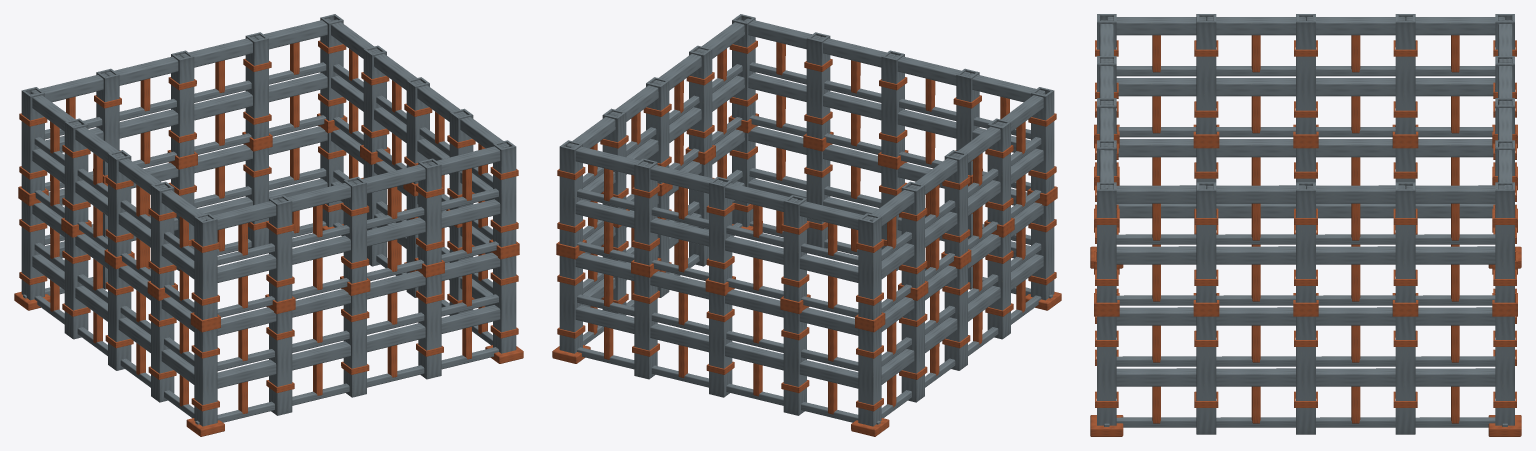
The picture shows the model from 3 angles, left to right: view 1: azimuth 30°, elevation 25°; view 2: azimuth 150°, elevation 25°; view 3: azimuth 270°, elevation 25°; orthographic projection. The views are drawn at different scales.
Visible parts, largest first — view 1: Tier 1 side 0 post 0, Tier 0 side 0 post 0, Tier 1 side 0 post 1, Tier 1 side 1 post 0, Tier 1 side 2 post 2, Tier 1 side 0 post 3, Tier 0 side 0 post 1, Tier 0 side 0 post 3, Tier 1 side 0 post 2, Tier 1 side 2 post 1, Tier 0 side 0 post 2, Tier 0 side 1 post 0 (+92 smaller); view 2: Tier 1 side 3 post 0, Tier 0 side 3 post 0, Tier 1 side 0 post 3, Tier 1 side 2 post 3, Tier 1 side 2 post 0, Tier 1 side 0 post 2, Tier 1 side 2 post 1, Tier 0 side 2 post 3, Tier 0 side 2 post 1, Tier 1 side 2 post 2, Tier 0 side 2 post 2, Tier 0 side 2 post 0 (+92 smaller); view 3: Tier 1 side 3 post 1, Tier 1 side 3 post 3, Tier 1 side 1 post 1, Tier 1 side 1 post 3, Tier 0 side 1 post 1, Tier 0 side 1 post 3, Tier 1 side 3 post 2, Tier 0 side 1 post 2, Tier 1 side 1 post 2, Tier 1 side 2 post 0, Tier 1 side 1 post 0, Tier 0 side 1 post 0 (+78 smaller).
Boxes of the visible parts, x1,y1,x2,y2 form: Tier 1 side 0 post 0: (194,213,217,319); Tier 0 side 0 post 0: (194,327,217,426); Tier 1 side 0 post 1: (269,195,292,301); Tier 1 side 1 post 0: (493,140,516,247); Tier 1 side 2 post 2: (171,50,194,157); Tier 1 side 0 post 3: (418,158,441,265); Tier 0 side 0 post 1: (269,310,292,415); Tier 0 side 0 post 3: (418,274,441,379); Tier 1 side 0 post 2: (343,176,366,283); Tier 1 side 2 post 1: (245,32,268,138); Tier 0 side 0 post 2: (343,292,366,397); Tier 0 side 1 post 0: (493,256,516,353); Tier 1 side 3 post 0: (858,213,881,319); Tier 0 side 3 post 0: (858,327,881,426); Tier 1 side 0 post 3: (806,32,830,139); Tier 1 side 2 post 3: (783,195,806,301); Tier 1 side 2 post 0: (559,140,582,247); Tier 1 side 0 post 2: (881,50,904,157); Tier 1 side 2 post 1: (634,158,657,265); Tier 0 side 2 post 3: (783,310,806,415); Tier 0 side 2 post 1: (634,274,657,379); Tier 1 side 2 post 2: (709,176,732,283); Tier 0 side 2 post 2: (709,292,732,397); Tier 0 side 2 post 0: (559,256,582,353); Tier 1 side 3 post 1: (1395,14,1415,134); Tier 1 side 3 post 3: (1196,14,1216,134); Tier 1 side 1 post 1: (1196,182,1216,302); Tier 1 side 1 post 3: (1395,182,1415,302); Tier 0 side 1 post 1: (1196,316,1216,434); Tier 0 side 1 post 3: (1395,316,1415,434); Tier 1 side 3 post 2: (1296,14,1315,134); Tier 0 side 1 post 2: (1296,316,1315,434); Tier 1 side 1 post 2: (1296,182,1315,302); Tier 1 side 2 post 0: (1495,182,1514,302); Tier 1 side 1 post 0: (1097,182,1116,302); Tier 0 side 1 post 0: (1097,316,1116,425).
Size of the model in its own units: 1.95 by 1.22 by 1.95.
2 materials, 2 textured.
